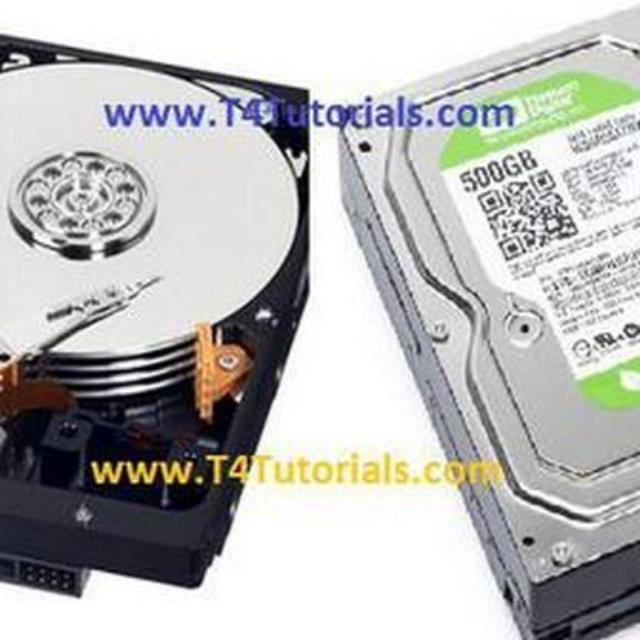DISK: (337, 0, 640, 640), (0, 30, 315, 605)
